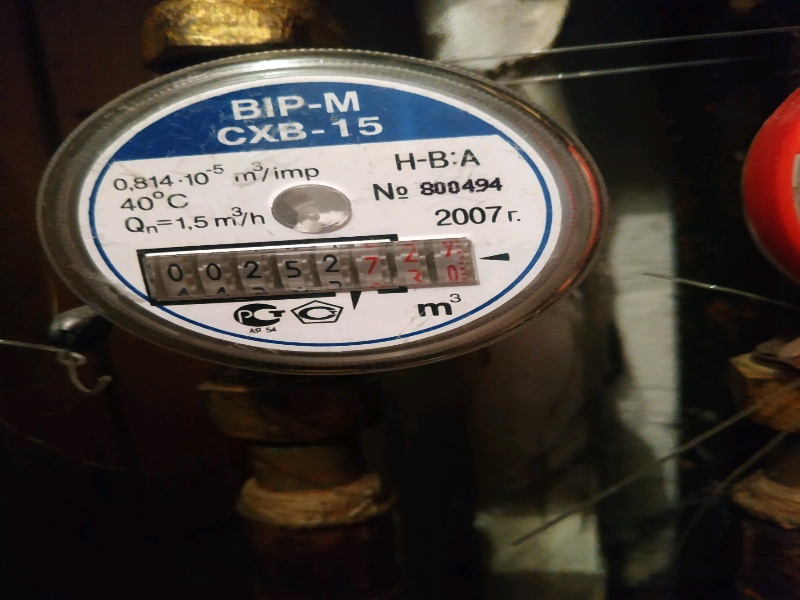dial: (137, 246, 465, 287)
